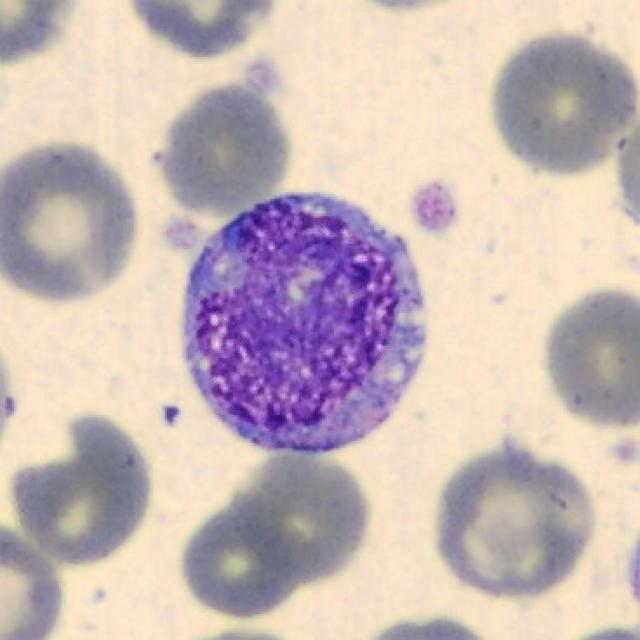Monocito: (183, 194, 426, 455)
